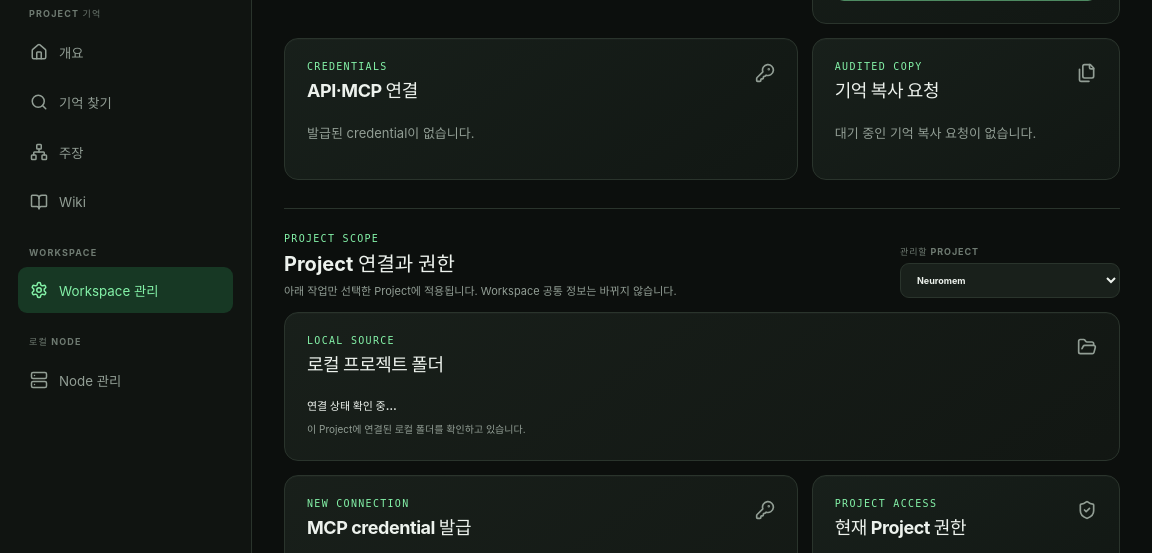
Neuromem web routes › discards a late folder response after the selected Project changes
This screenshot has width=1152, height=553.
(page scrolled)
Expected: the heading "Project 연결과 권한" is shown, [284,252,455,276]
Select "Research" in the dropdown labelled "관리할 Project": (1010, 280) [900,263,1120,298]
(page scrolled)
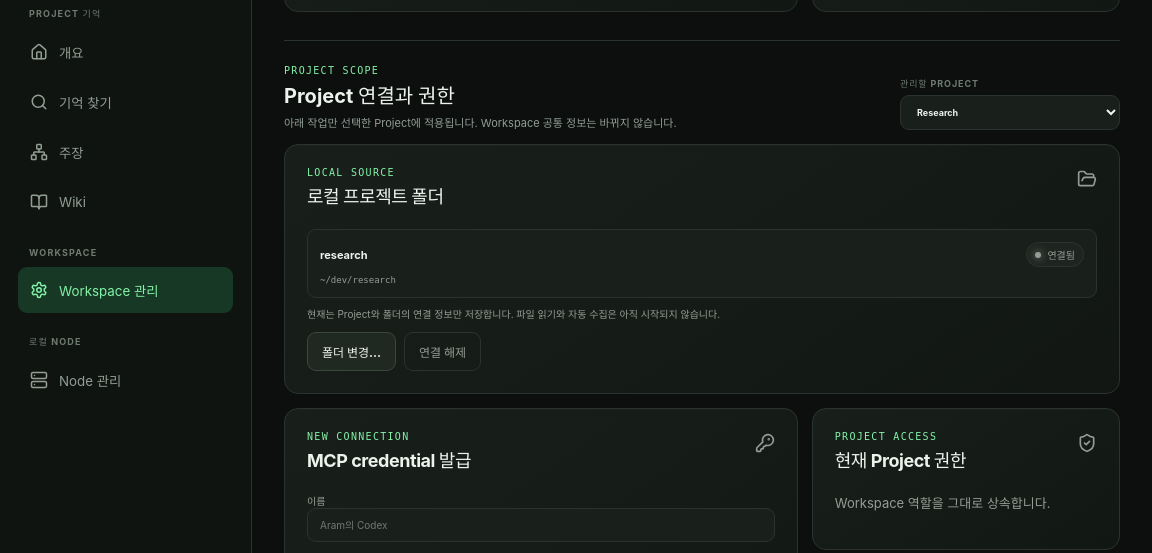
Now the text "~/dev/research" is shown, box [320,275,396,285]
